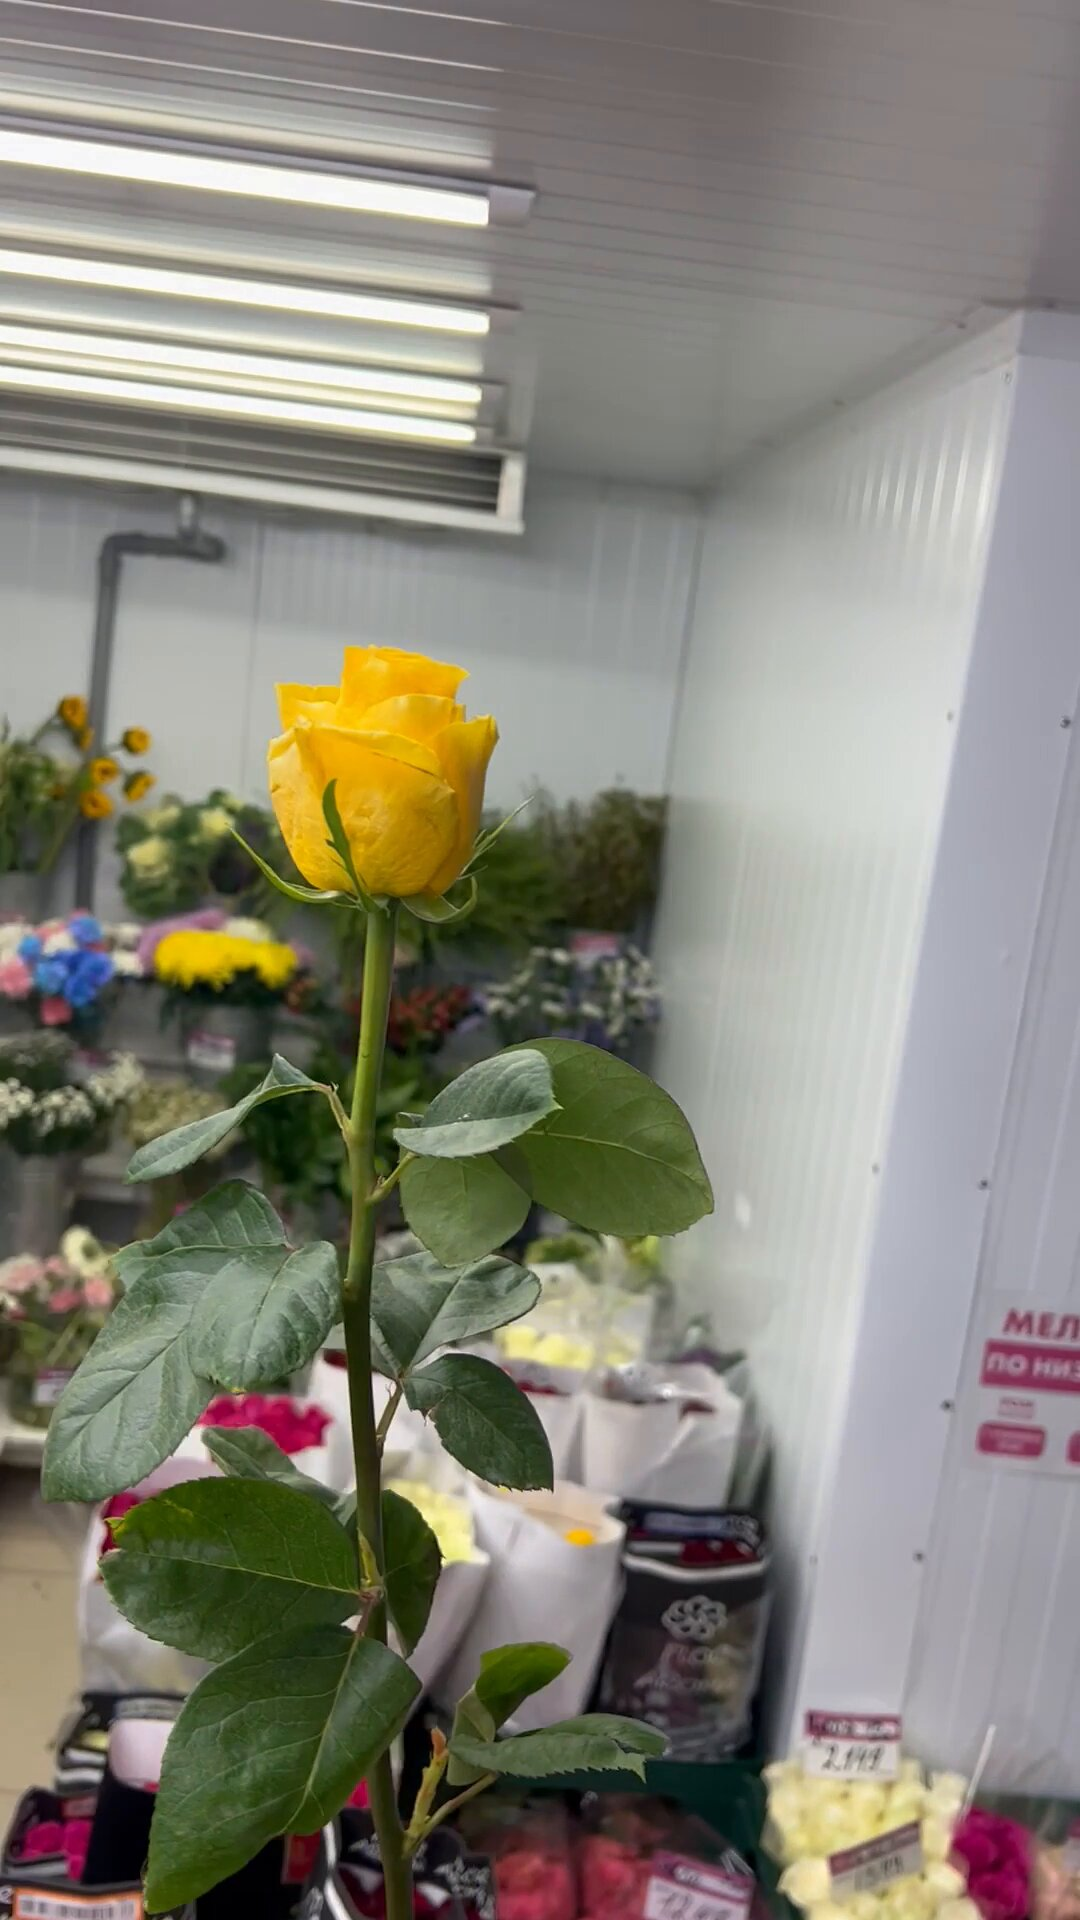rose: (79, 622, 702, 1920)
